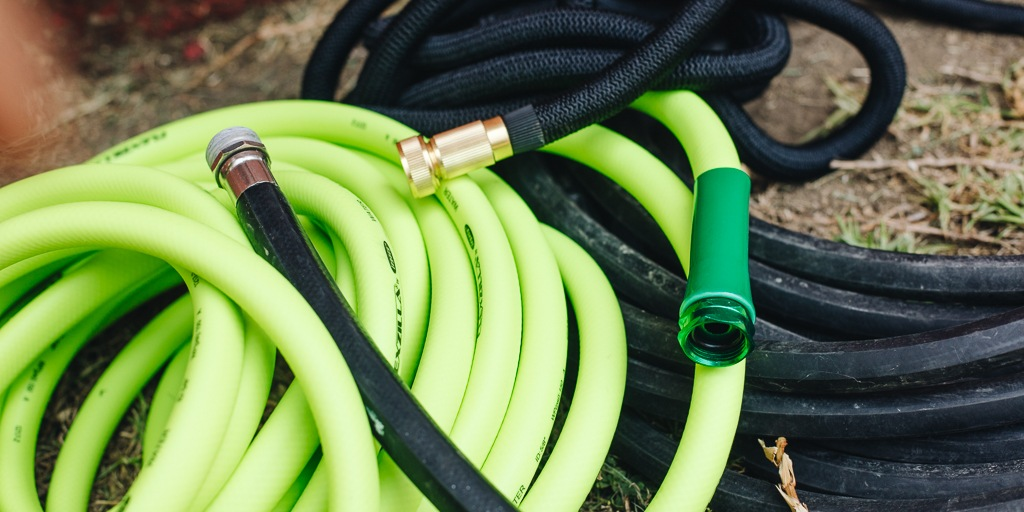Nonrec_Tangler: (14, 1, 954, 477)
